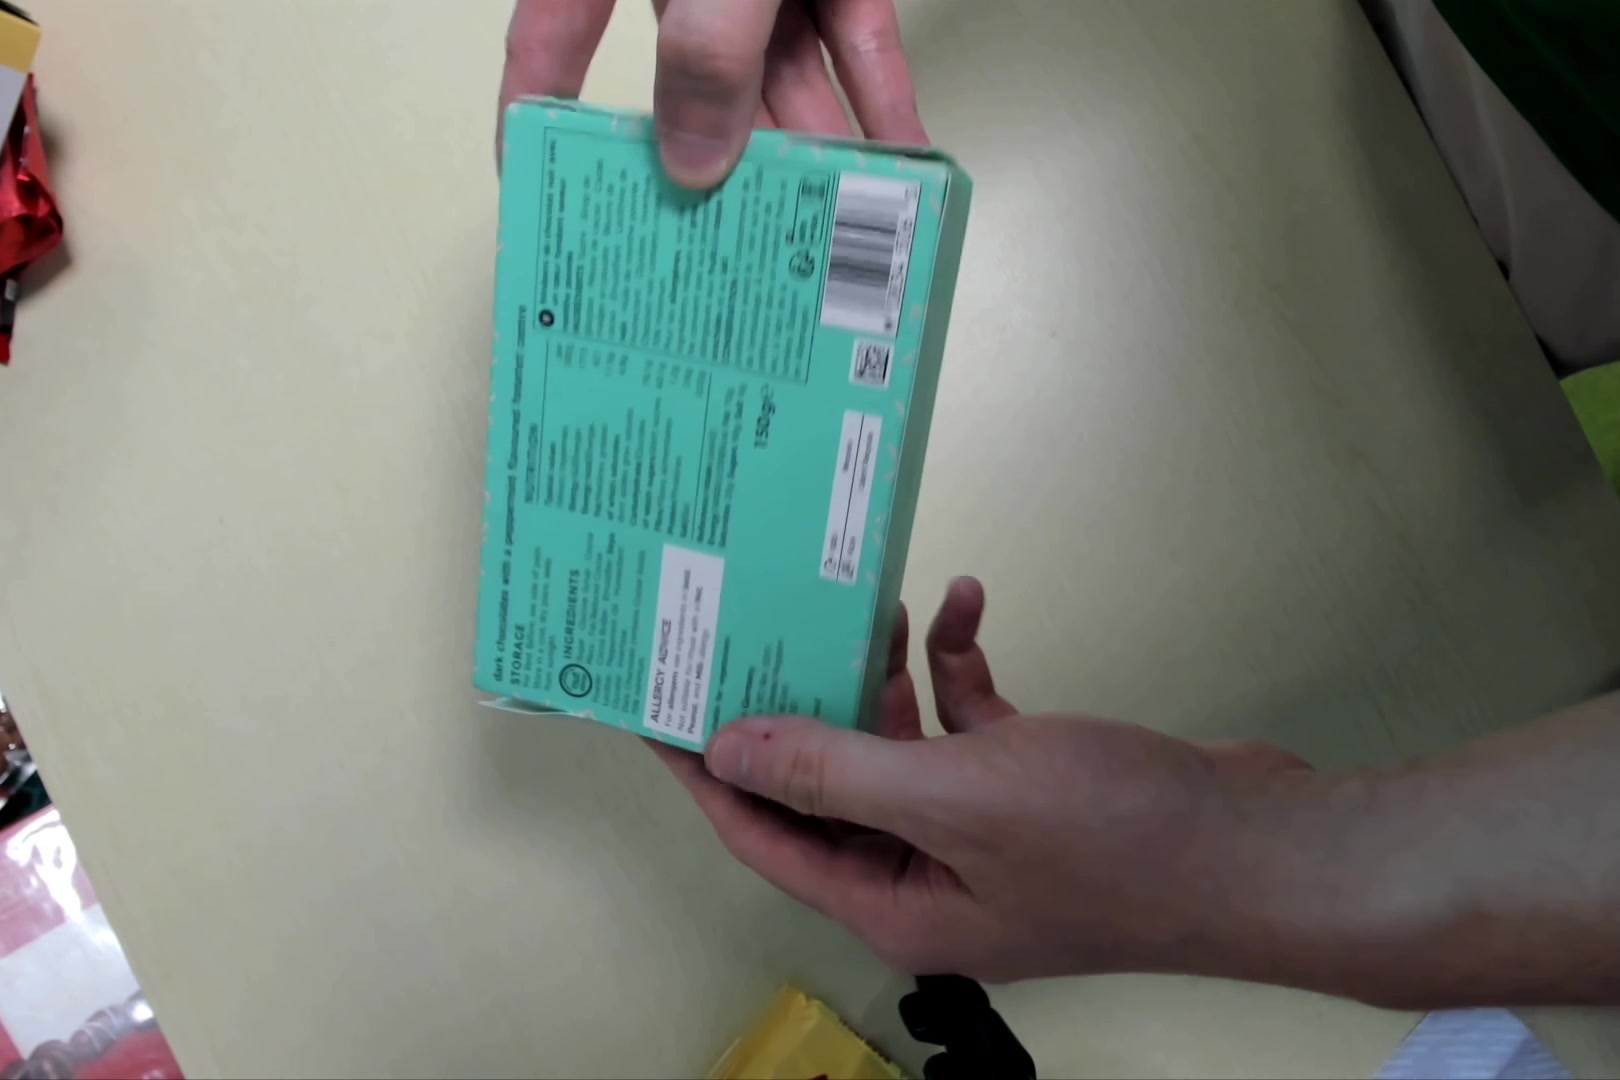SweetsChocolatesOthers_100-199g_NonHalal_NonHealthy: (472, 93, 982, 774)
